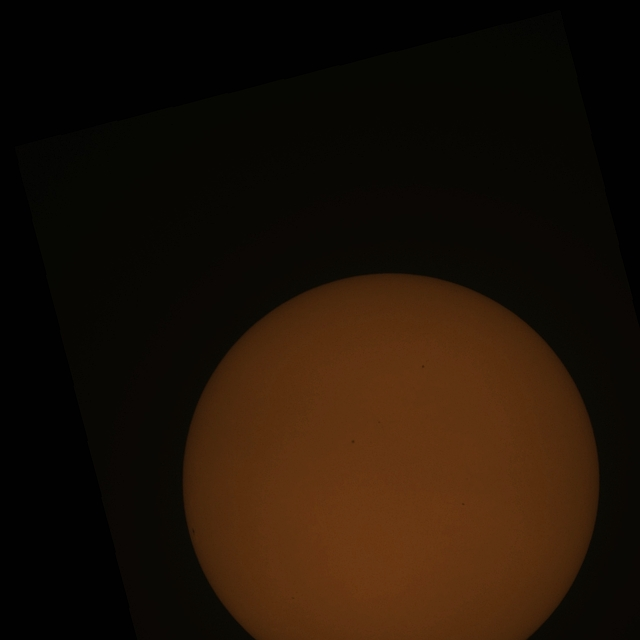sunspot: (421, 362, 427, 369), (190, 528, 196, 535), (292, 592, 297, 600), (351, 438, 355, 444), (377, 420, 382, 424)
